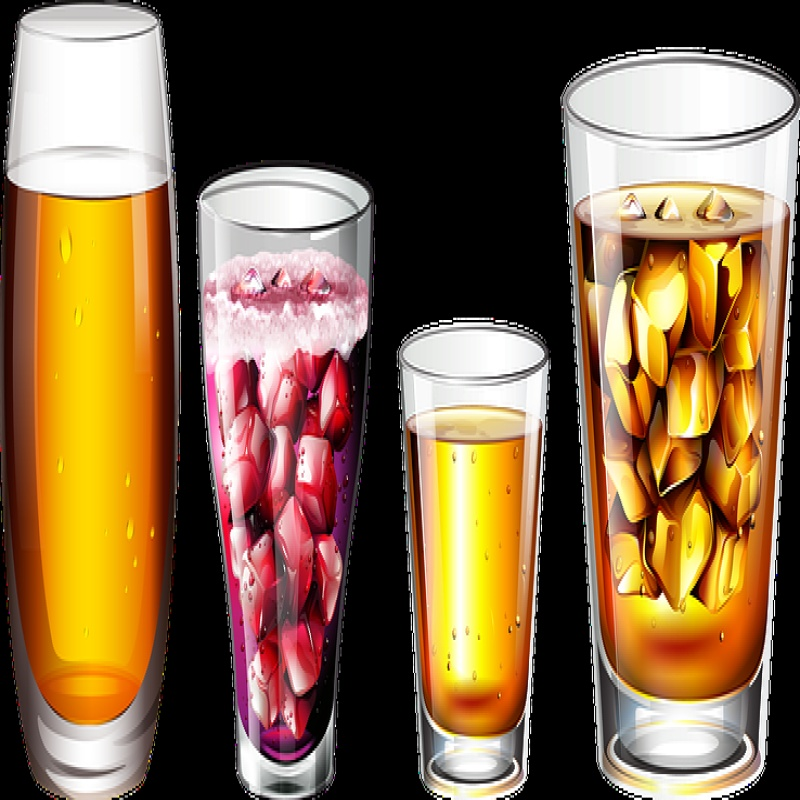whiskey: (389, 321, 555, 792)
